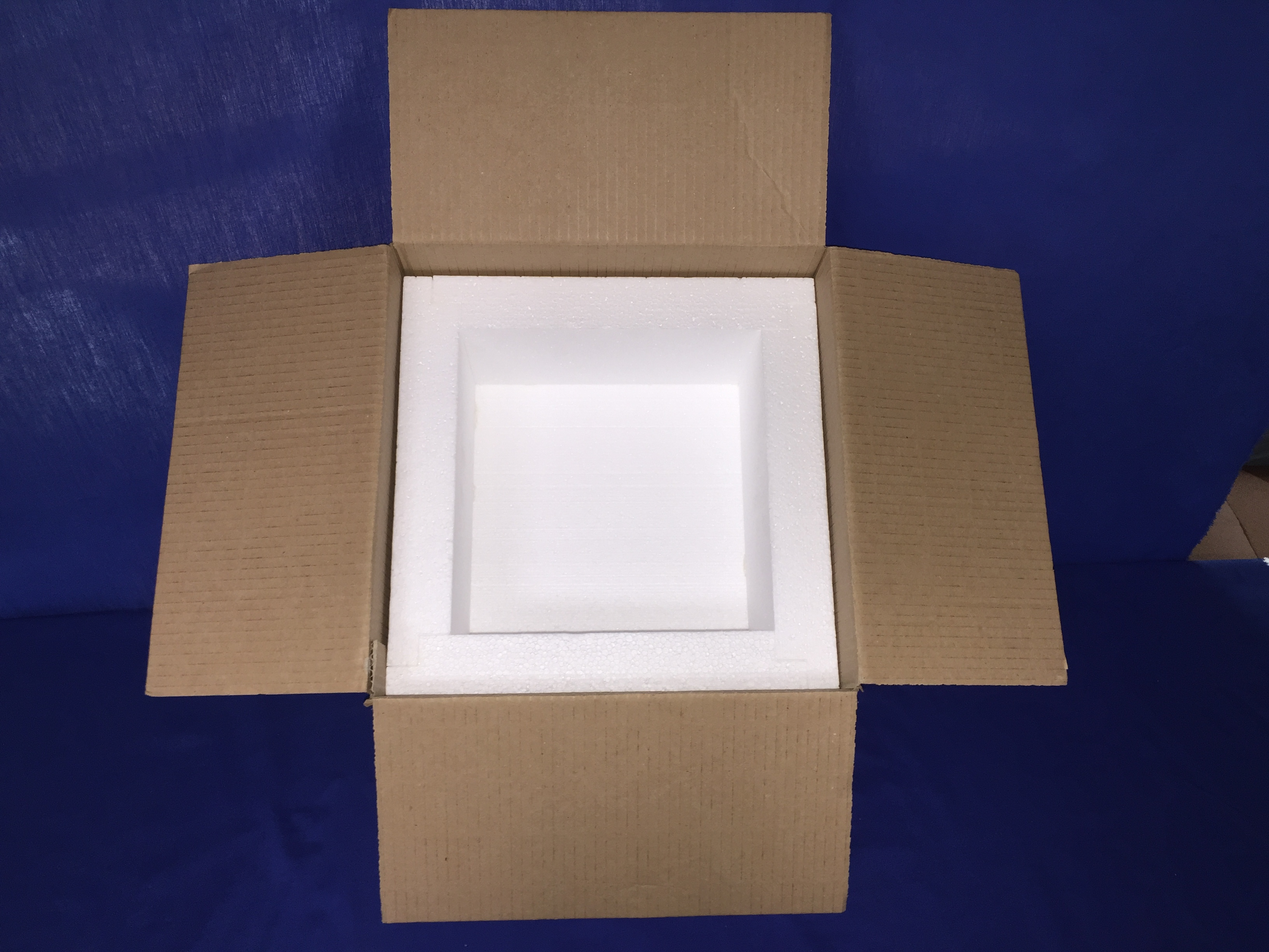泡沫箱: (386, 276, 838, 695)
